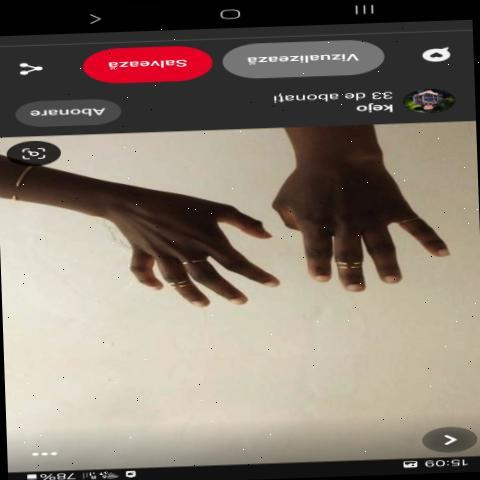Hands: (265, 135, 469, 328), (69, 179, 288, 331)
